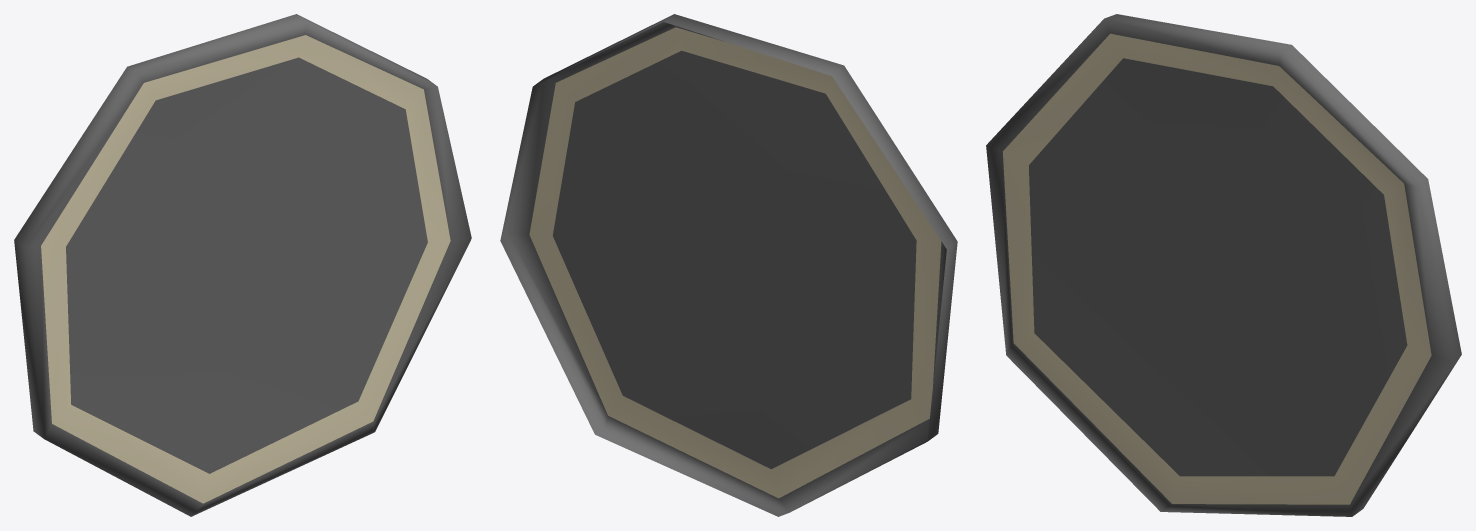
File: ui_orderSmall.glb
3 views of the same model, side by side, from view 1: azimuth 30°, elevation 25°; view 2: azimuth 150°, elevation 25°; view 3: azimuth 330°, elevation 25° (orthographic). The views are drawn at different scales.
Parts seen in each view (by area): view 1: Cylinder; view 2: Cylinder; view 3: Cylinder.
Part boxes in pixels (left/top/right/bottom): Cylinder: left=14, top=14, right=471, bottom=516; Cylinder: left=500, top=14, right=957, bottom=516; Cylinder: left=986, top=14, right=1461, bottom=516.
Size of the model in its own units: 1.83 by 1.82 by 0.0839.
